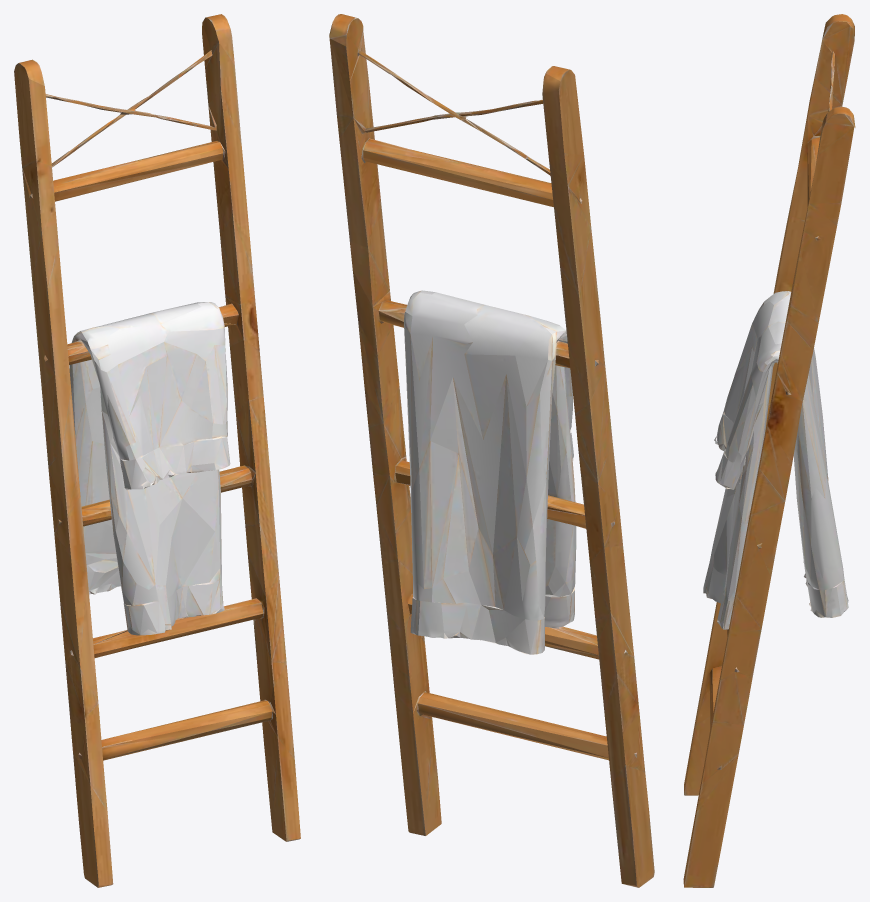
Rendered from towel_rack.glb.
3 views of the same model, side by side, from view 1: azimuth 30°, elevation 25°; view 2: azimuth 150°, elevation 25°; view 3: azimuth 270°, elevation 25° (orthographic). The views are drawn at different scales.
Size of the model in its own units: 0.5349 by 1.9 by 0.3819.
Materials: 1 (1 with a texture image).
